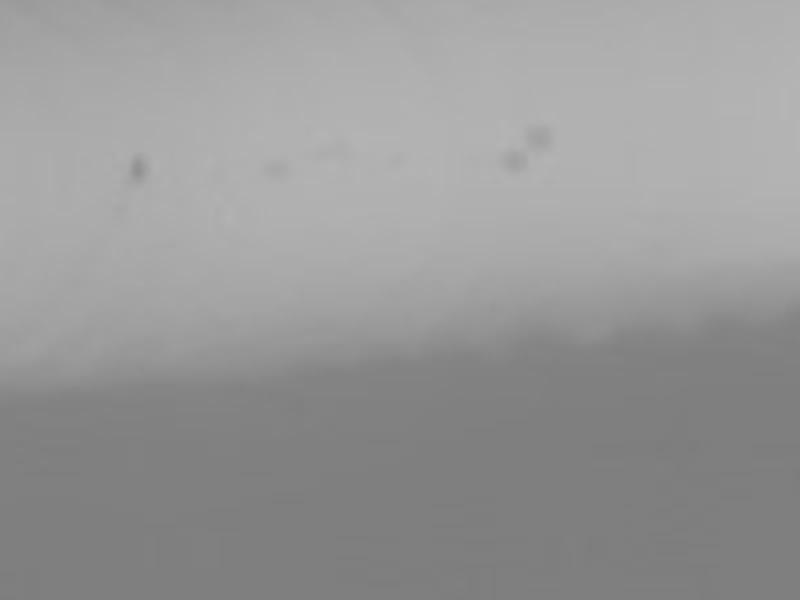defect: (525, 120, 553, 149), (502, 146, 528, 176), (129, 152, 149, 184), (265, 157, 291, 179)
